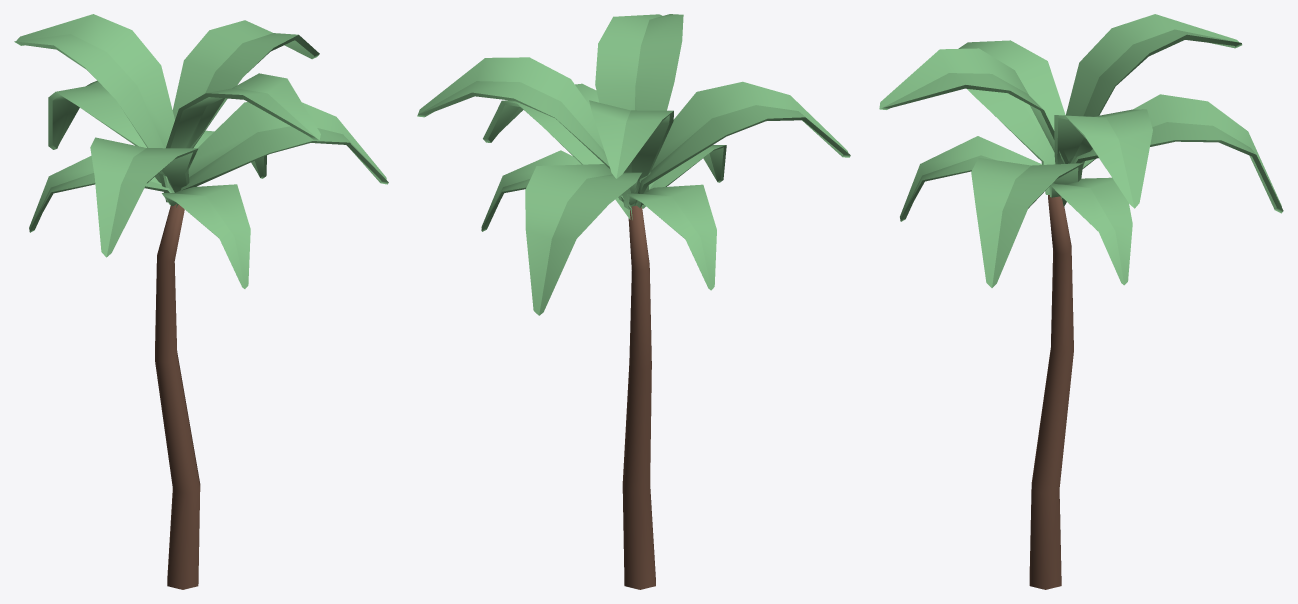
Rendered from PalmTree01.glb.
3 renders of one model, left to right at view 1: azimuth 30°, elevation 25°; view 2: azimuth 150°, elevation 25°; view 3: azimuth 270°, elevation 25°, orthographic. The views are drawn at different scales.
Parts seen in each view (by area): view 1: PalmTree01; view 2: PalmTree01; view 3: PalmTree01.
Boxes of the visible parts, x1=… form: PalmTree01: x1=14, y1=14, x2=388, y2=589; PalmTree01: x1=417, y1=14, x2=850, y2=589; PalmTree01: x1=879, y1=14, x2=1283, y2=589.
Bounding box in the file's own units: 3.87 × 5.95 × 4.06.
